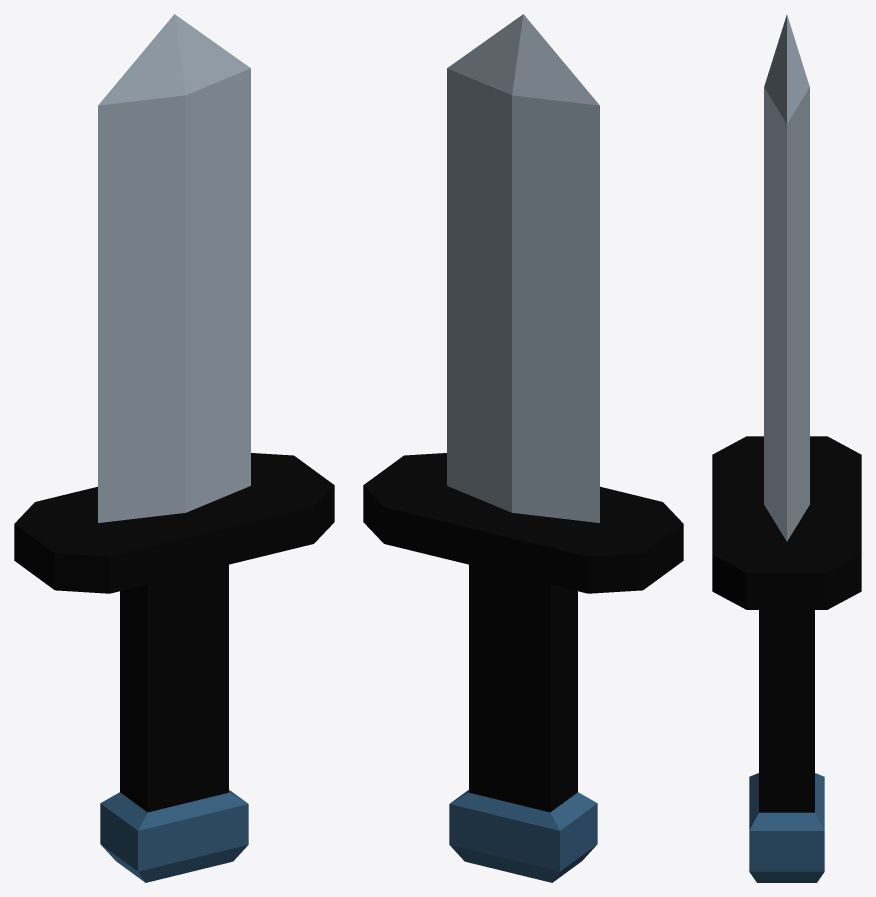
File: melee1.fbx
3 renders of one model, left to right at view 1: azimuth 30°, elevation 25°; view 2: azimuth 150°, elevation 25°; view 3: azimuth 270°, elevation 25°, orthographic.
Parts seen in each view (by area): view 1: Cube; view 2: Cube; view 3: Cube.
Boxes of the visible parts, x1,y1,x2,y2 form: Cube: (14, 14, 334, 882); Cube: (363, 14, 683, 882); Cube: (712, 15, 861, 882).
Bounding box in the file's own units: 274 × 793 × 127.
